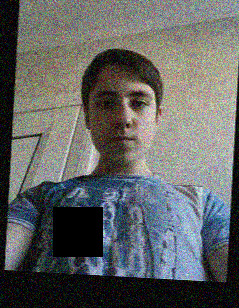without_mask: (87, 85, 155, 166)
